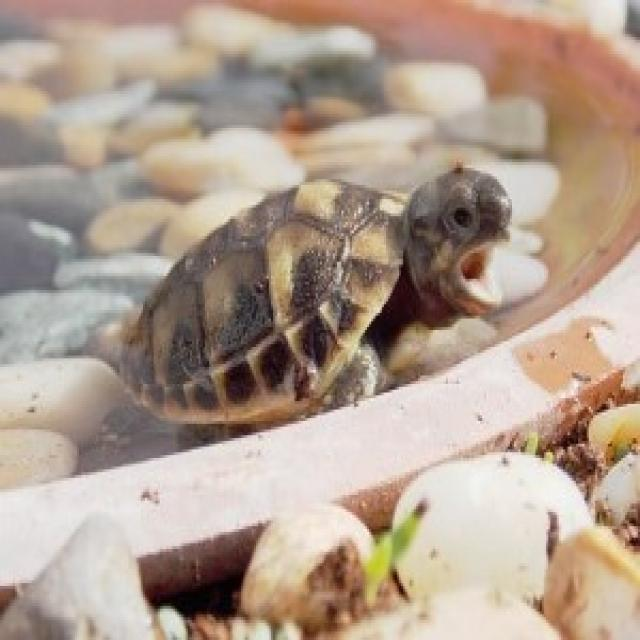Sea turtle: (119, 150, 554, 466)
